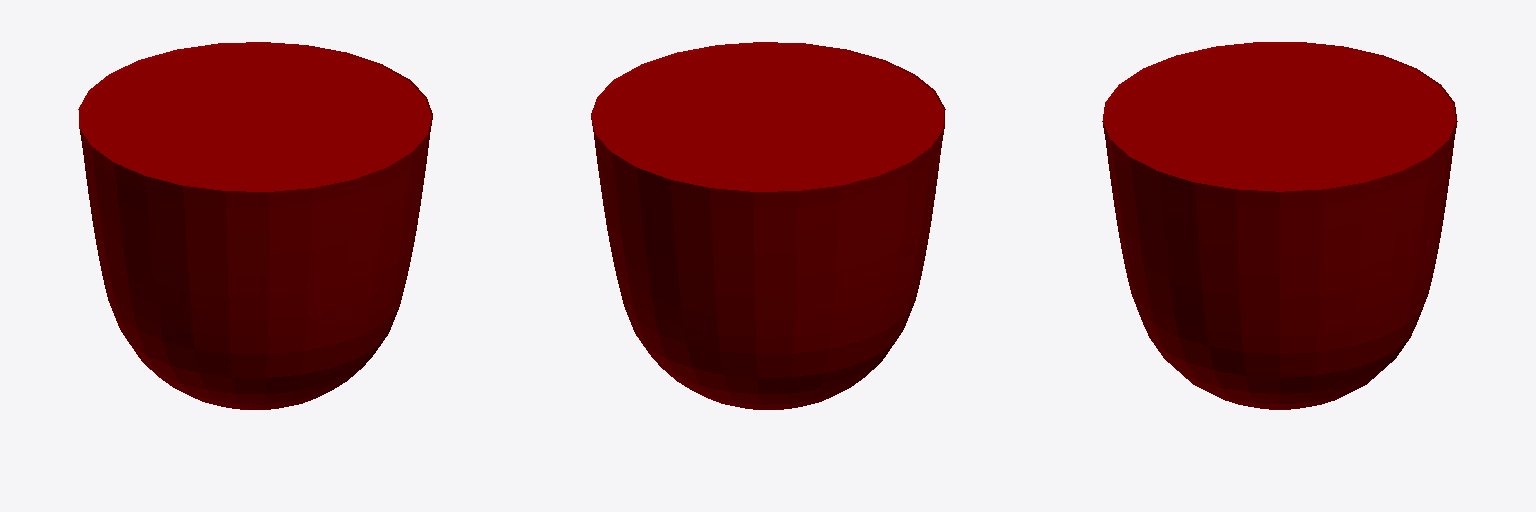
The model's file is wine_for_glass.obj.
3 renders of one model, left to right at view 1: azimuth 30°, elevation 25°; view 2: azimuth 150°, elevation 25°; view 3: azimuth 270°, elevation 25°, orthographic.
Parts seen in each view (by area): view 1: liquid; view 2: liquid; view 3: liquid.
Boxes of the visible parts, x1,y1,x2,y2 form: liquid: [78, 42, 432, 409]; liquid: [591, 42, 945, 409]; liquid: [1102, 42, 1457, 409].
Size of the model in its own units: 1.45 by 1.25 by 1.45.